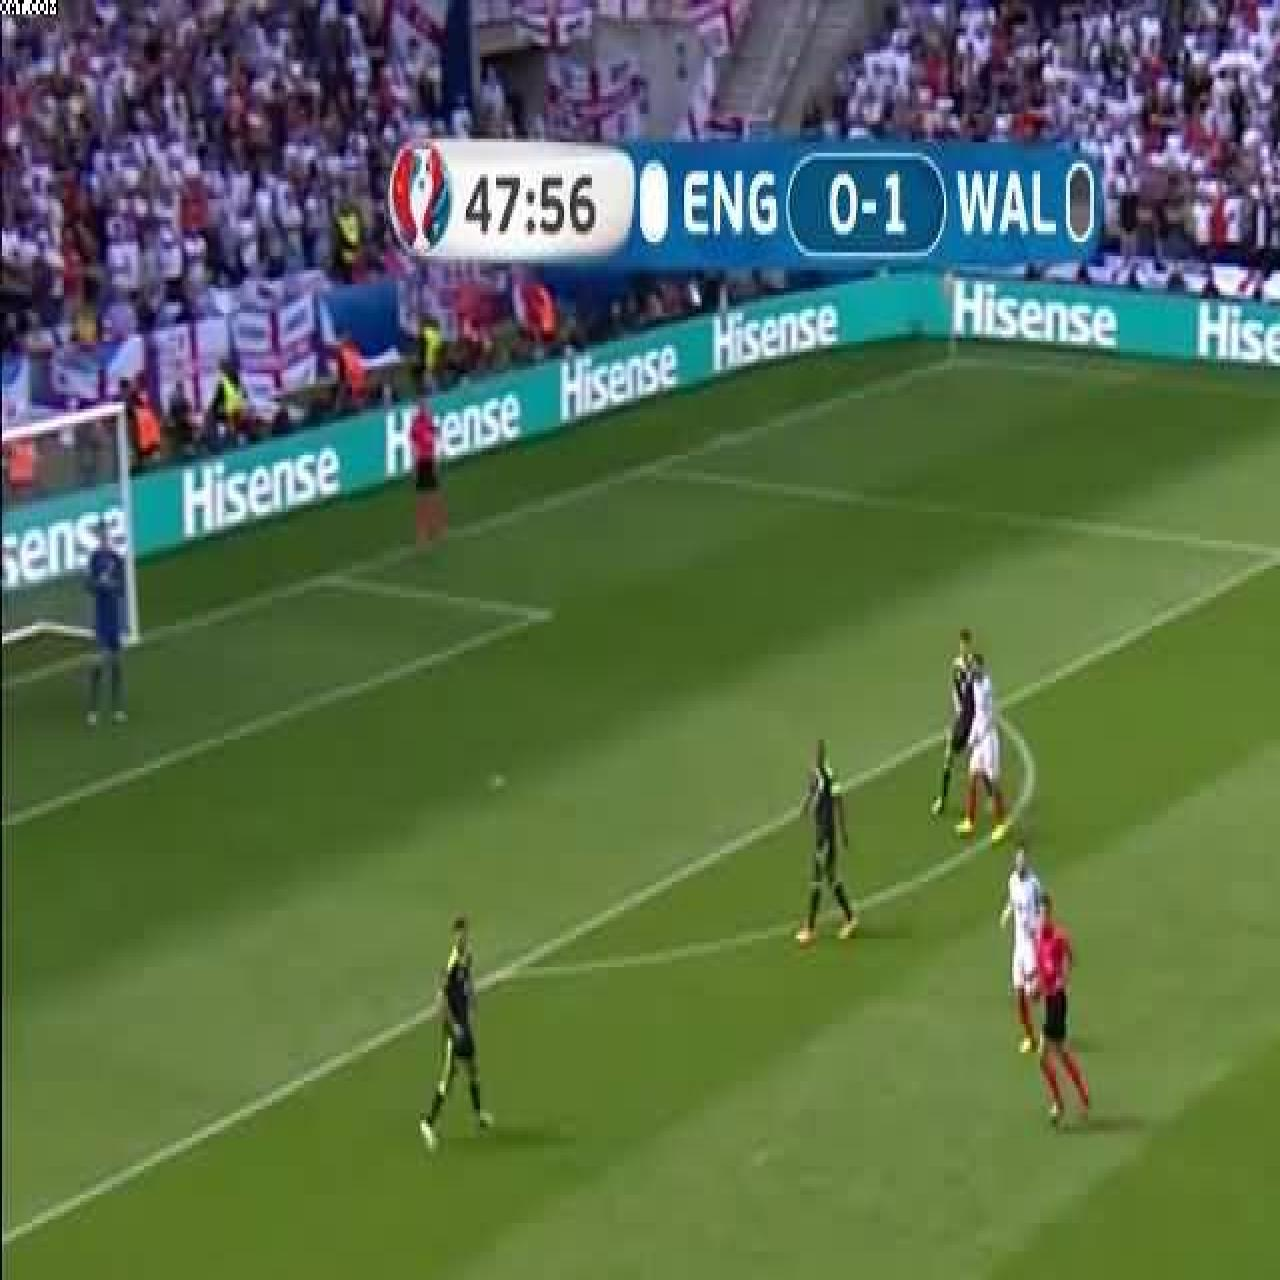football: (421, 915, 494, 1153), (1030, 897, 1090, 1127), (794, 735, 854, 946), (930, 630, 993, 813), (956, 650, 1007, 846), (1002, 849, 1044, 1053), (84, 519, 125, 727), (409, 397, 443, 553)
